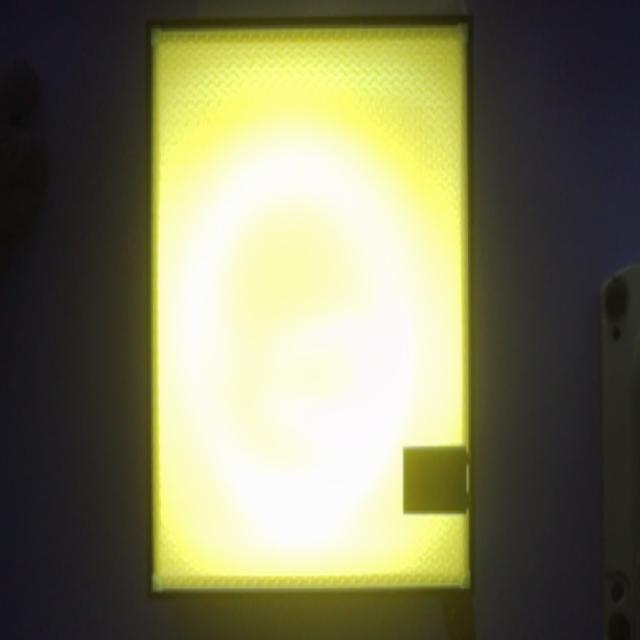bateria: (402, 442, 470, 513)
mesa: (147, 17, 474, 601)
